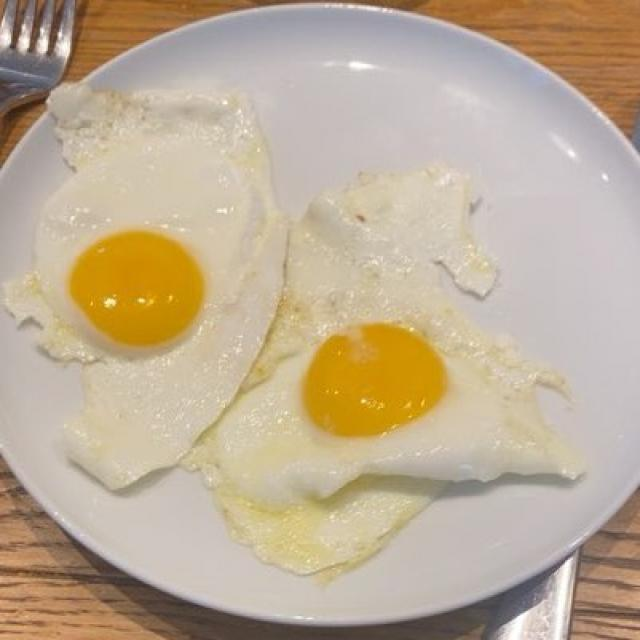egg: (38, 89, 564, 551)
